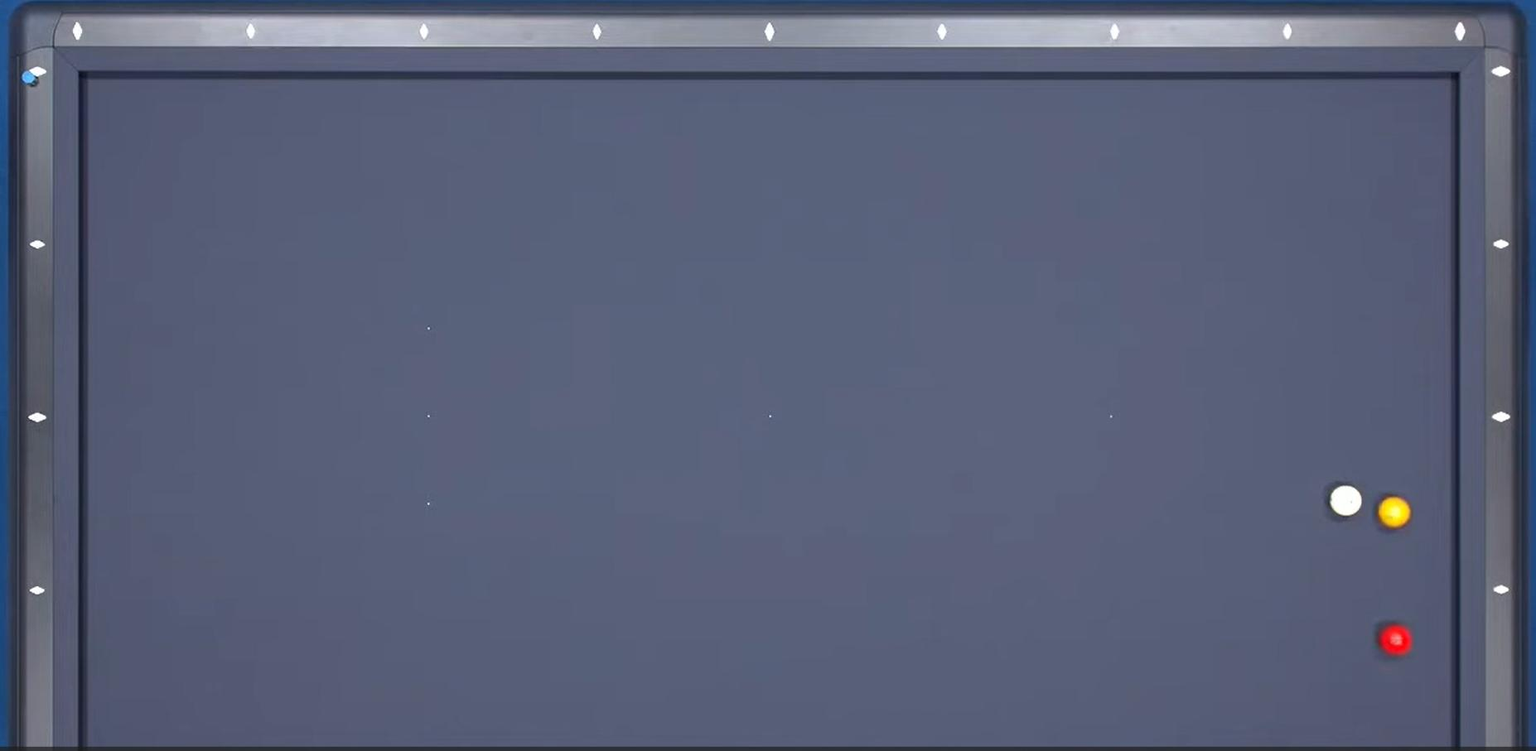red ball: (1373, 619, 1418, 659)
white ball: (1326, 484, 1365, 518)
yellow ball: (1374, 491, 1414, 532)
